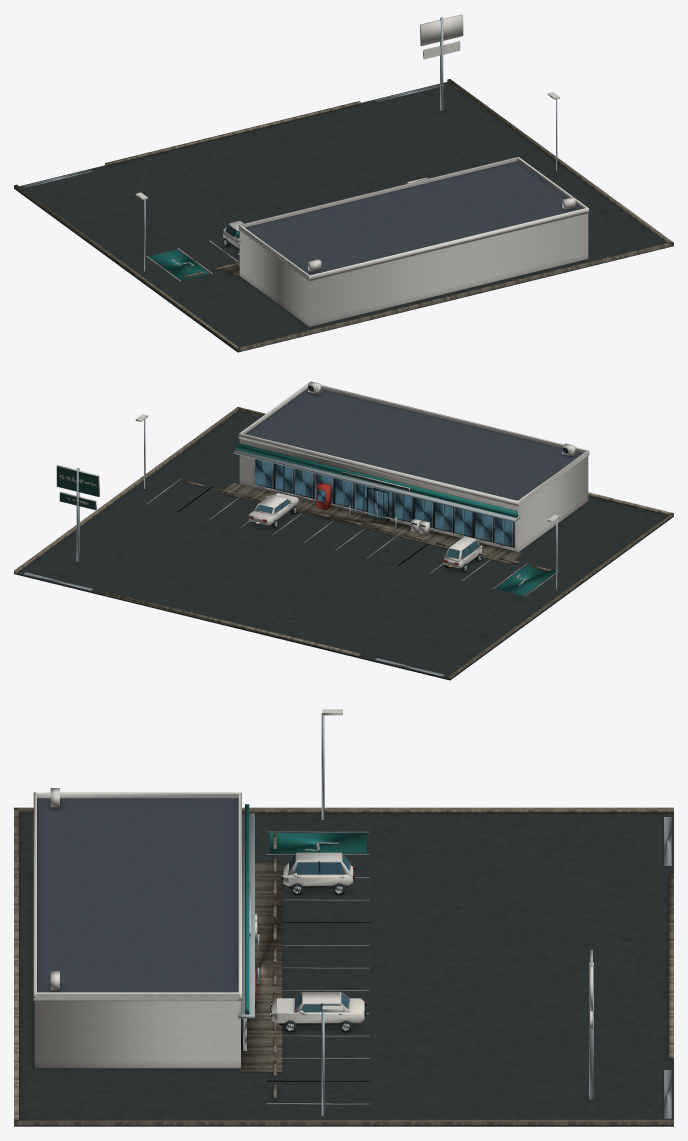
Rendered from convenience_roadside_001.obj.
3 views of the same model, one above another, from view 1: azimuth 30°, elevation 25°; view 2: azimuth 150°, elevation 25°; view 3: azimuth 270°, elevation 25° (orthographic). The views are drawn at different scales.
Parts seen in each view (by area): view 1: convenience_roadside_001; view 2: convenience_roadside_001; view 3: convenience_roadside_001.
Part boxes in pixels (left/top/right/bottom): convenience_roadside_001: left=14, top=14, right=673, bottom=352; convenience_roadside_001: left=14, top=381, right=673, bottom=680; convenience_roadside_001: left=14, top=709, right=673, bottom=1126.
Size of the model in its own units: 36 by 7.4 by 32.
Materials: 1 (1 with a texture image).
